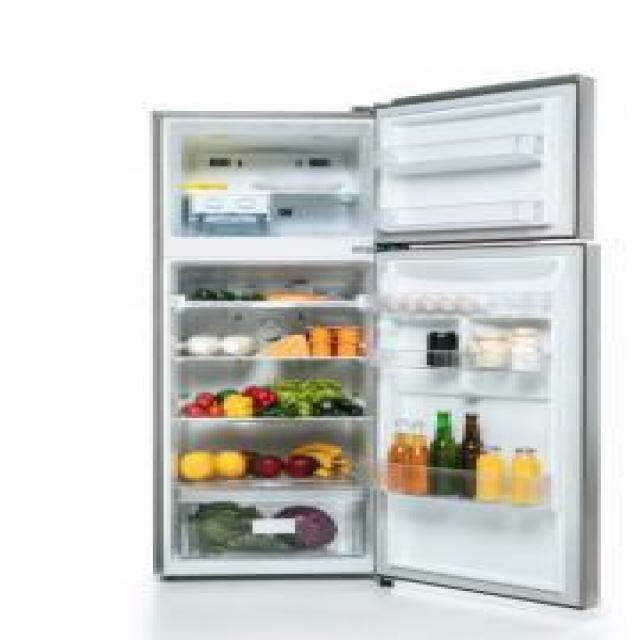apple: (247, 452, 286, 480), (283, 454, 318, 480)
banana: (286, 439, 347, 461)
bell_pepper: (242, 383, 281, 408), (220, 394, 256, 419)
cheese: (254, 332, 311, 359)
egg: (457, 293, 482, 315), (386, 294, 404, 316), (404, 295, 422, 317)
lemon: (176, 449, 219, 481), (212, 448, 247, 480)
milk: (219, 330, 261, 357), (183, 331, 219, 356)
salad: (266, 374, 348, 415)
yogurt: (304, 323, 336, 342), (330, 323, 362, 342), (304, 340, 336, 358), (332, 342, 364, 358)
